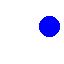circle: (39, 16, 59, 36)
